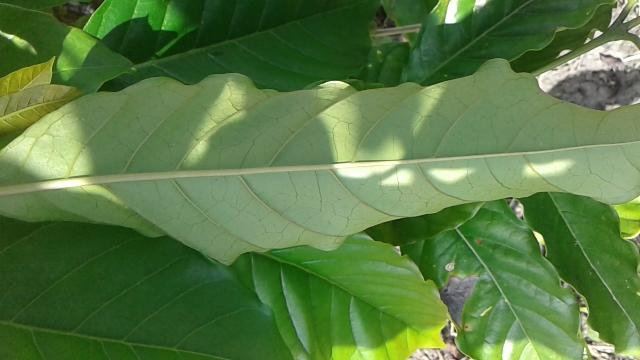healthy: (2, 57, 640, 266)
